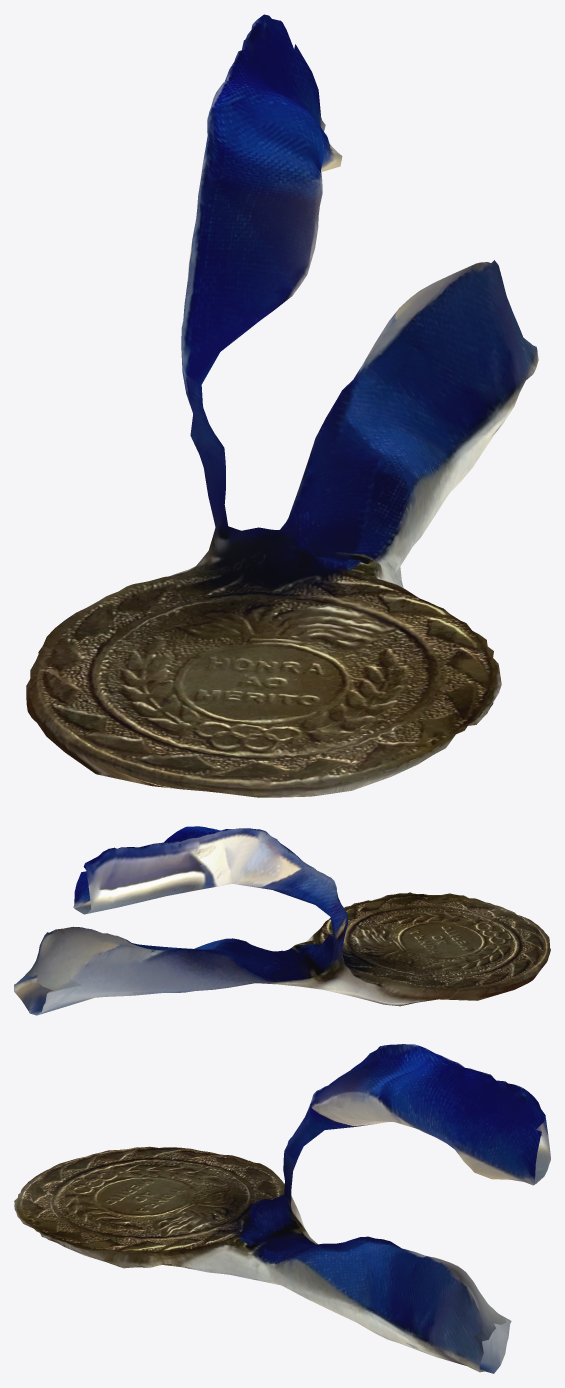
File: medal.glb
3 views of the same model, one above another, from view 1: azimuth 30°, elevation 25°; view 2: azimuth 150°, elevation 25°; view 3: azimuth 270°, elevation 25° (orthographic). The views are drawn at different scales.
Visible parts, largest first — view 1: Body; view 2: Body; view 3: Body.
Part boxes in pixels (x1=…): Body: x1=26, y1=14, x2=538, y2=797; Body: x1=14, y1=826, x2=550, y2=1015; Body: x1=14, y1=1044, x2=550, y2=1373.
Size of the model in its own units: 42.09 by 22.34 by 44.52.
Materials: 1 (1 with a texture image).
